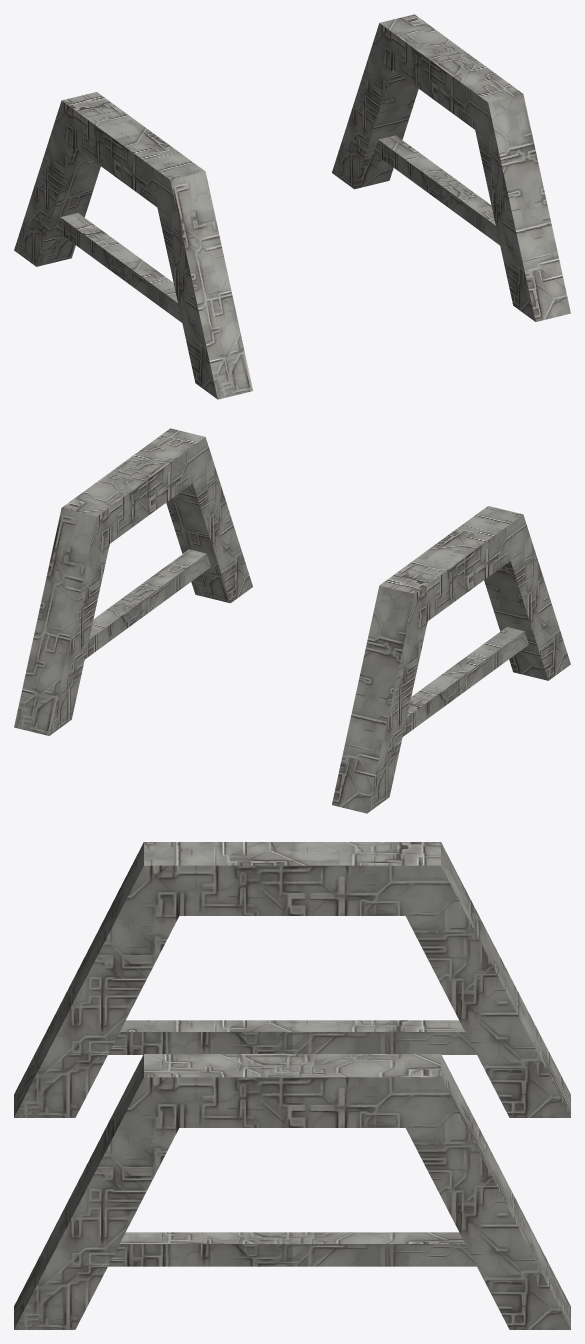
3 views of the same model, one above another, from view 1: azimuth 30°, elevation 25°; view 2: azimuth 150°, elevation 25°; view 3: azimuth 270°, elevation 25° (orthographic). The views are drawn at different scales.
Visible parts, largest first — view 1: mergedBlocks; view 2: mergedBlocks; view 3: mergedBlocks.
Part boxes in pixels (x1,y1,x2,y2): mergedBlocks: (14, 14, 570, 399); mergedBlocks: (14, 428, 570, 813); mergedBlocks: (14, 842, 570, 1329).
Size of the model in its own units: 10 by 5 by 10.
1 material, 1 textured.
